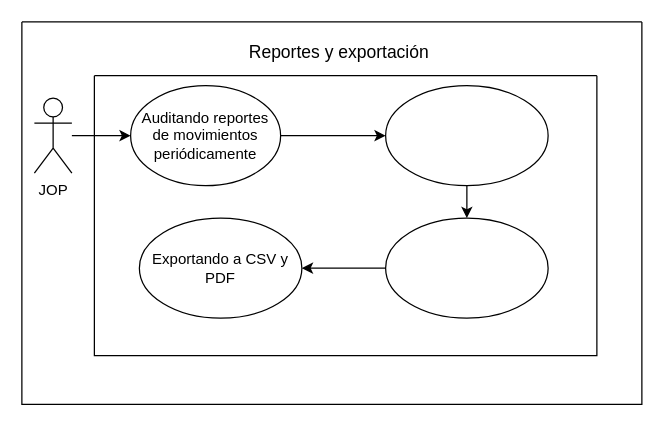
The diagram is 664 pixels wide and 426 high, and some of its shapes have lost their labels. Here are the shapes that lost their labels. From the top down, the box of each, then its label:
(384, 84, 548, 186): Solicitando aprobación gerencial para merma de producto crítico
(384, 217, 548, 318): Utilizando filtros avanzados en reportes
